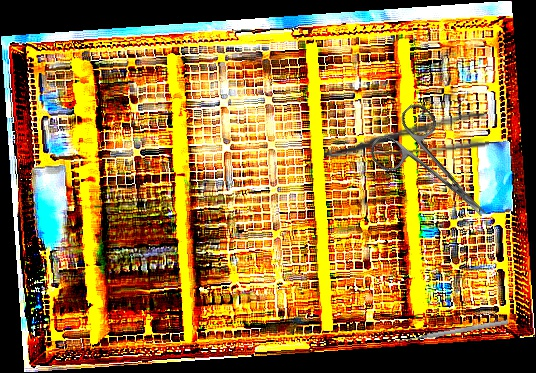Dressing Forceps: (321, 111, 490, 161)
Iris Scissors: (364, 99, 508, 242)
Pusher: (396, 318, 509, 345)
